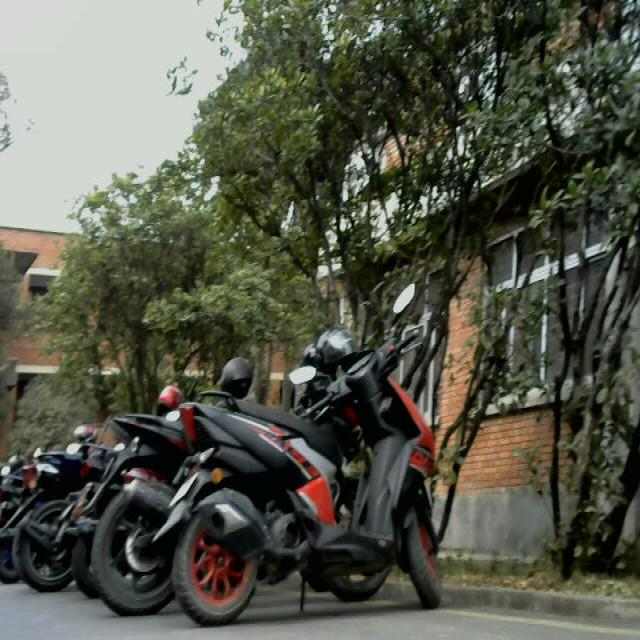Bike: (180, 319, 474, 632), (95, 394, 186, 614), (18, 426, 93, 626)
trees: (211, 7, 596, 266), (37, 198, 250, 387), (543, 306, 640, 570)
